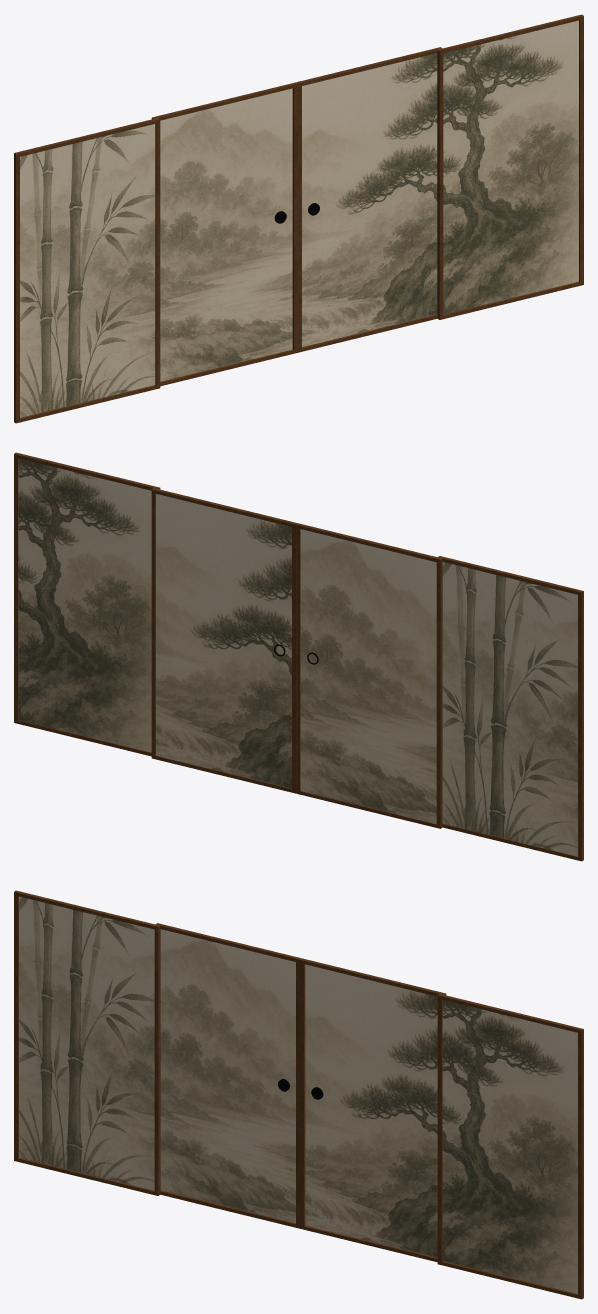
The model's file is Shoji_Door_Y.fbx.
3 views of the same model, one above another, from view 1: azimuth 30°, elevation 25°; view 2: azimuth 150°, elevation 25°; view 3: azimuth 330°, elevation 25° (orthographic).
Visible parts, largest first — view 1: Shoji Door 3Y, Shoji Door 4Y, Shoji Door 2Y_LOD0, Shoji Door 1Y_LOD0; view 2: Shoji Door 1Y_LOD0, Shoji Door 2Y_LOD0, Shoji Door 3Y, Shoji Door 4Y; view 3: Shoji Door 3Y, Shoji Door 4Y, Shoji Door 1Y_LOD0, Shoji Door 2Y_LOD0.
Boxes of the visible parts, box(x1,y1,x2,y2) form: Shoji Door 3Y: box(14, 118, 160, 423); Shoji Door 4Y: box(437, 14, 583, 319); Shoji Door 2Y_LOD0: box(296, 47, 442, 352); Shoji Door 1Y_LOD0: box(151, 82, 297, 386); Shoji Door 1Y_LOD0: box(296, 523, 442, 828); Shoji Door 2Y_LOD0: box(151, 488, 297, 793); Shoji Door 3Y: box(438, 556, 583, 861); Shoji Door 4Y: box(14, 452, 160, 756); Shoji Door 3Y: box(14, 890, 160, 1195); Shoji Door 4Y: box(437, 994, 583, 1299); Shoji Door 1Y_LOD0: box(155, 923, 301, 1228); Shoji Door 2Y_LOD0: box(300, 958, 446, 1262).
Size of what is drawn, in the model's own units: 502 by 227 by 6.
